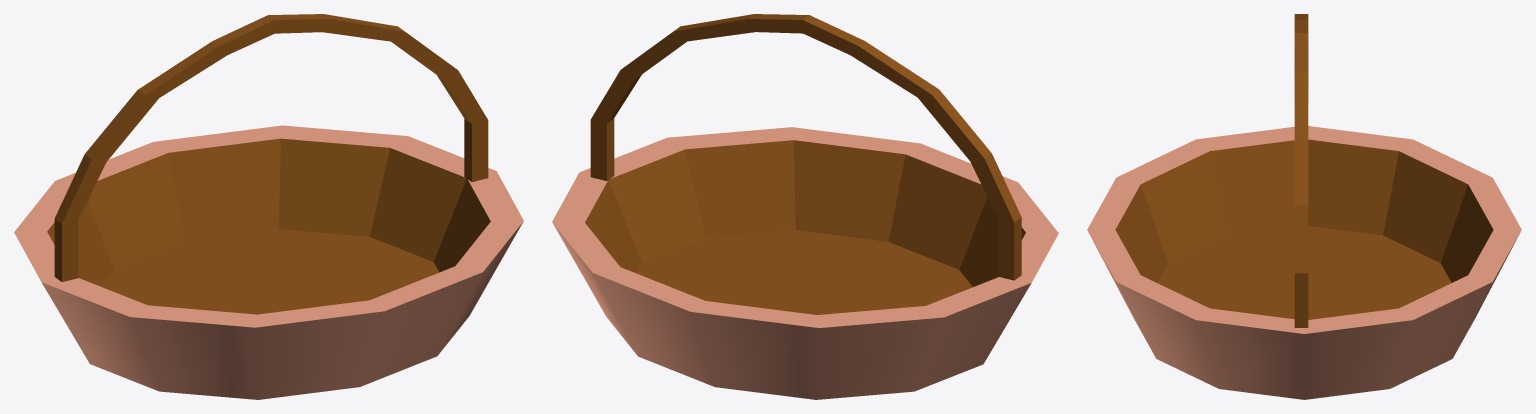
File: Basket.fbx
3 views of the same model, side by side, from view 1: azimuth 30°, elevation 25°; view 2: azimuth 150°, elevation 25°; view 3: azimuth 270°, elevation 25° (orthographic). The views are drawn at different scales.
Visible parts, largest first — view 1: Basket; view 2: Basket; view 3: Basket.
Part boxes in pixels (bbox=[...]): Basket: bbox=[14, 14, 523, 399]; Basket: bbox=[552, 14, 1058, 399]; Basket: bbox=[1087, 14, 1521, 399].
Size of the model in its own units: 38.16 by 24.34 by 33.6.
